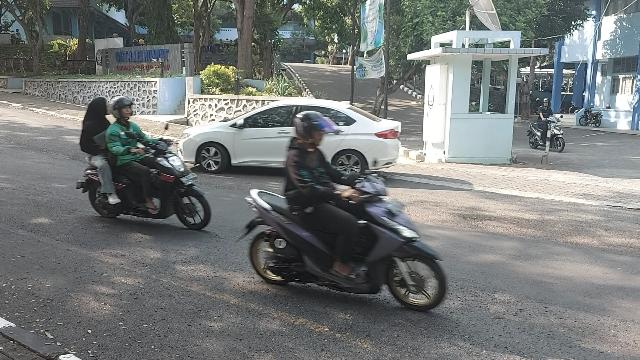helm: (295, 112, 342, 147), (112, 98, 137, 121), (543, 99, 551, 108)
motor: (236, 159, 448, 313), (77, 126, 212, 231), (528, 117, 566, 154)
non-helm: (91, 99, 111, 116)
